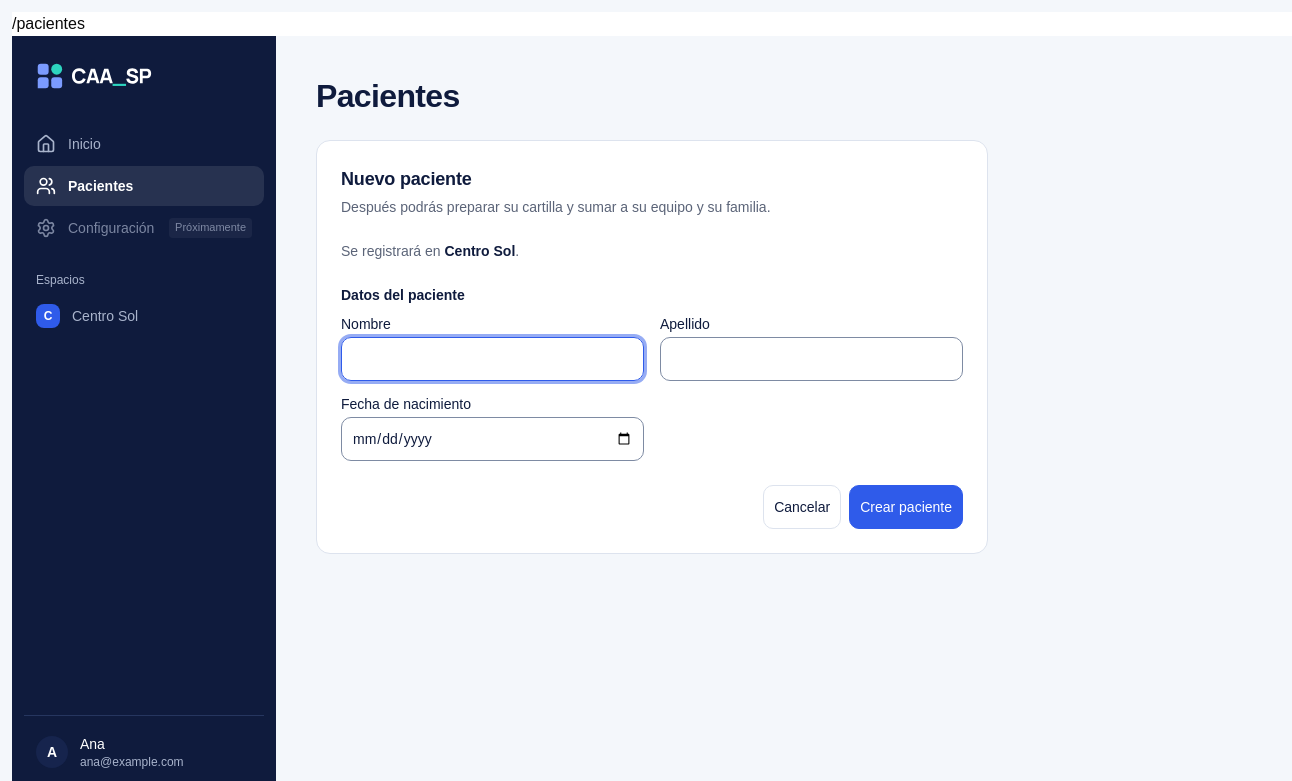
Scenario: after registering › hides what the backend did not allow
Type "Noa" into the field labelled "Nombre" at (492, 359), box [341, 337, 644, 381]
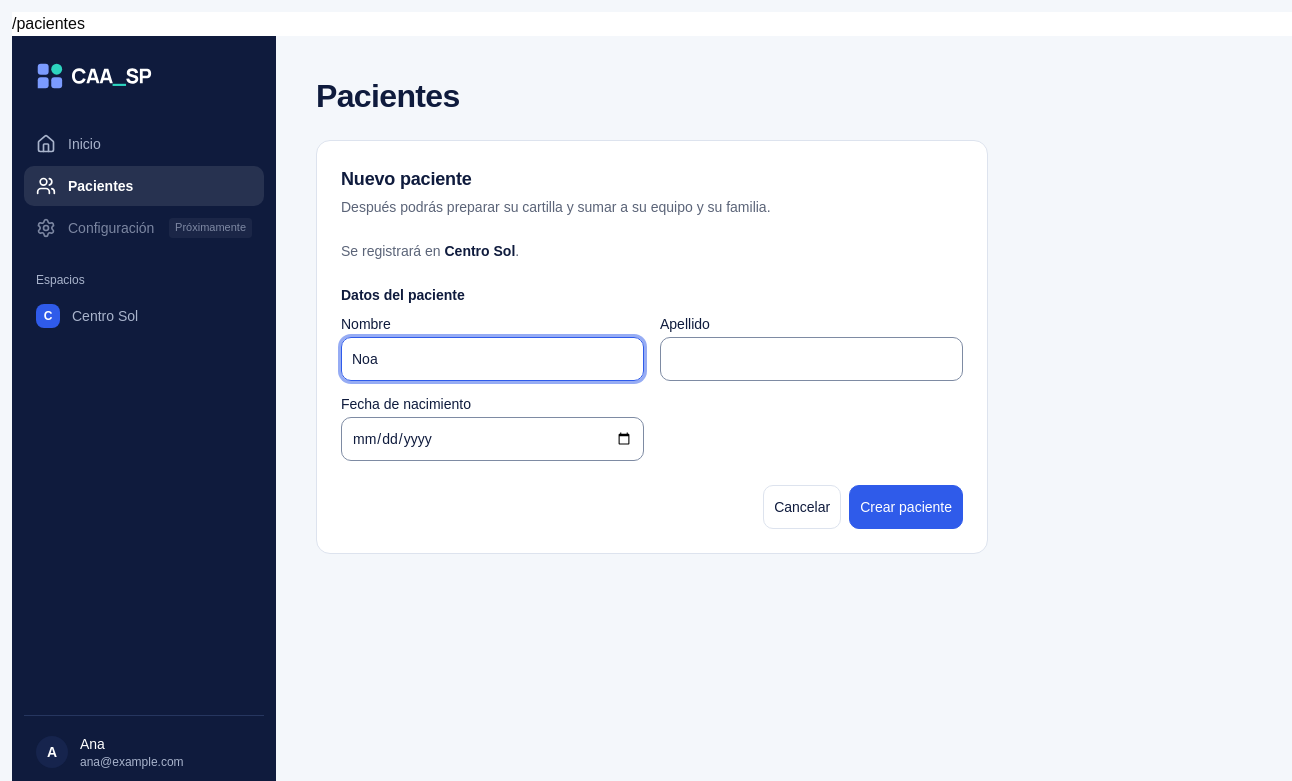
Type "Díaz" into the field labelled "Apellido" at (812, 359), box [660, 337, 963, 381]
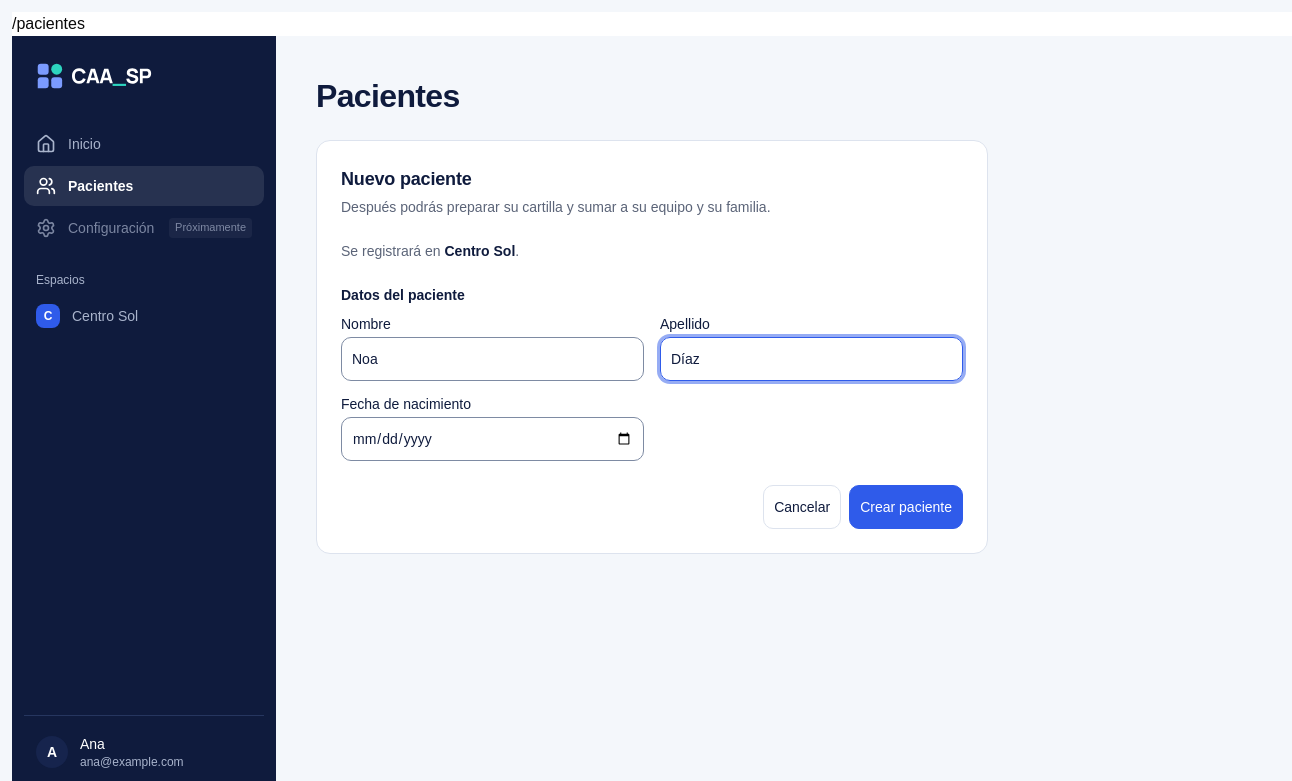
Type "2019-01-01" into the date field labelled "Fecha de nacimiento" at (492, 439), box [341, 417, 644, 461]
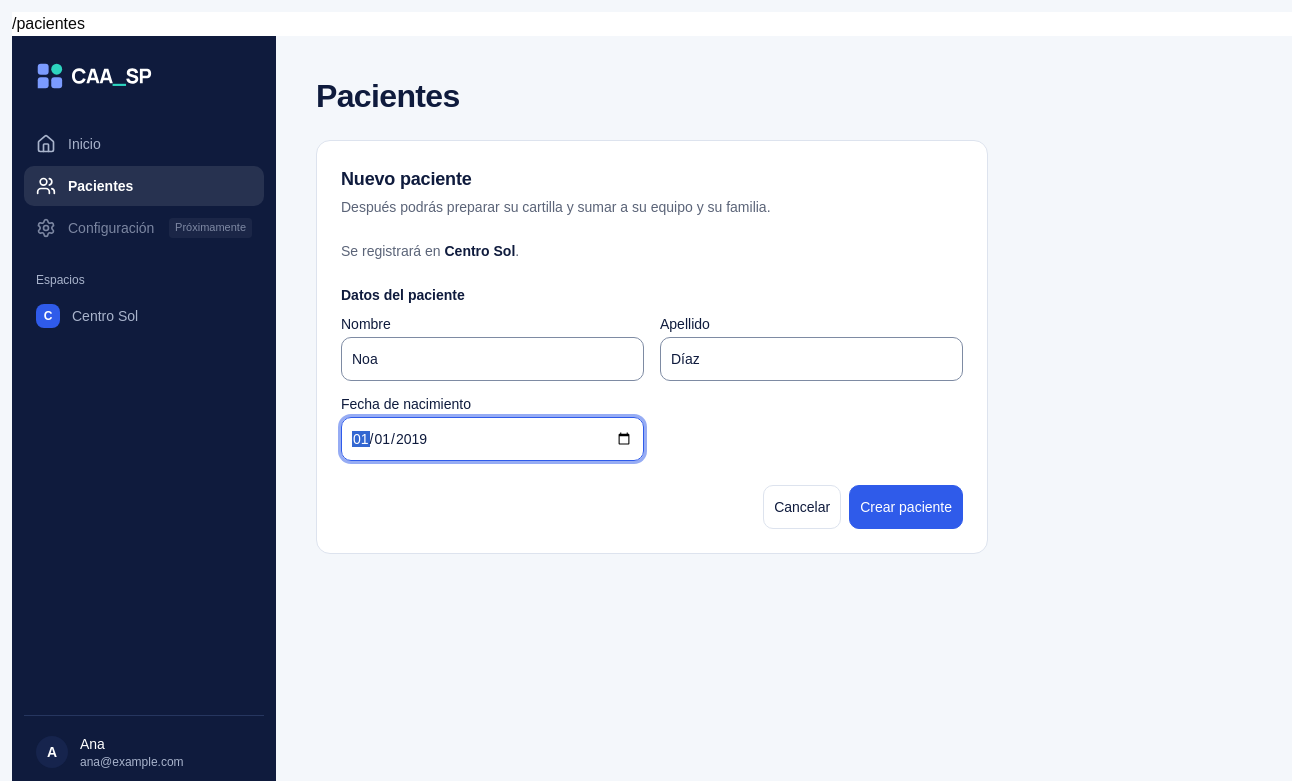
Click the button "Crear paciente" at (906, 507), box [849, 485, 963, 529]
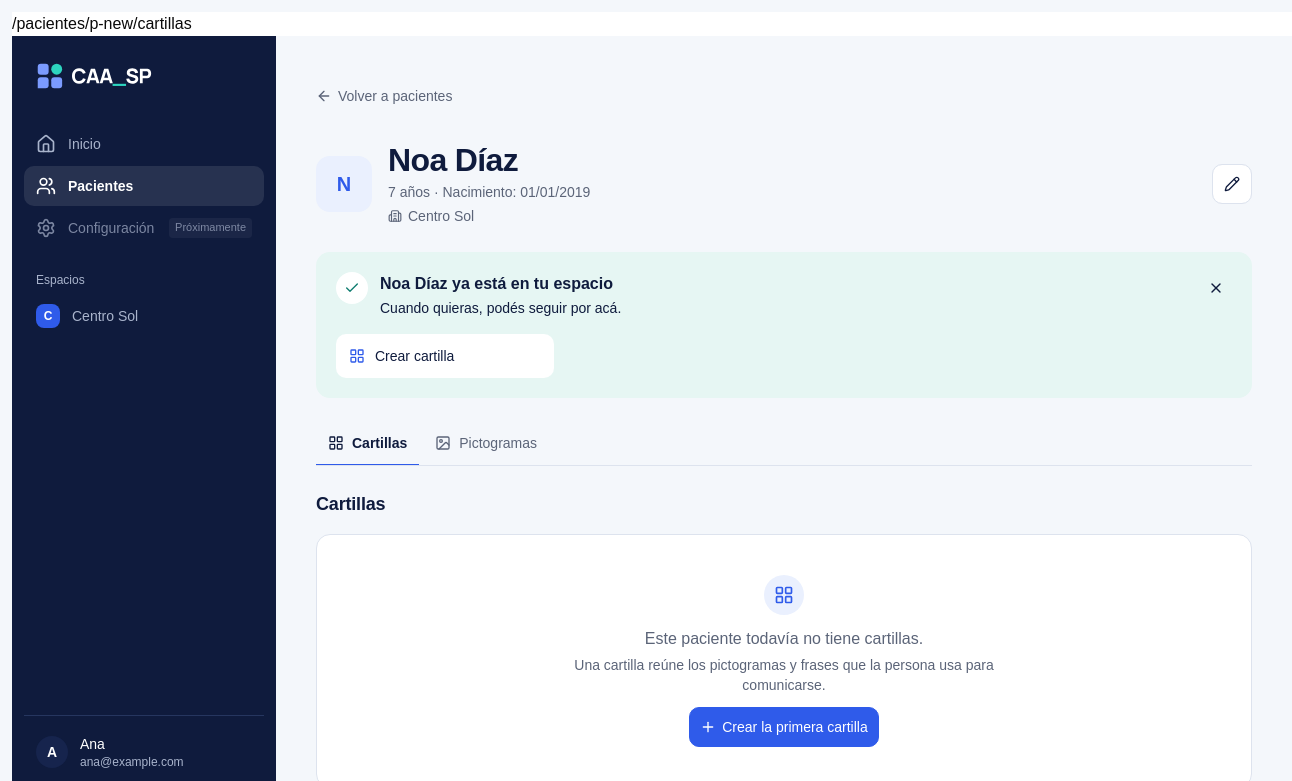
Expected: the links read "Crear cartilla", in this order, [336, 334, 554, 378]
